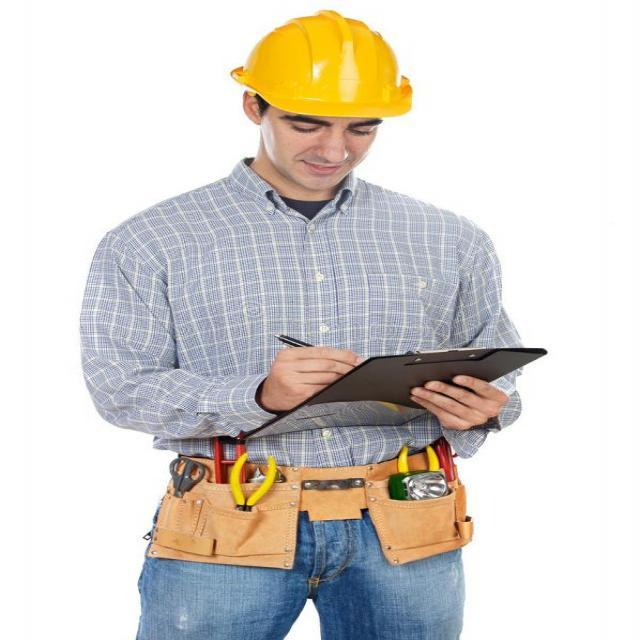safety_helmet: (230, 8, 415, 117)
